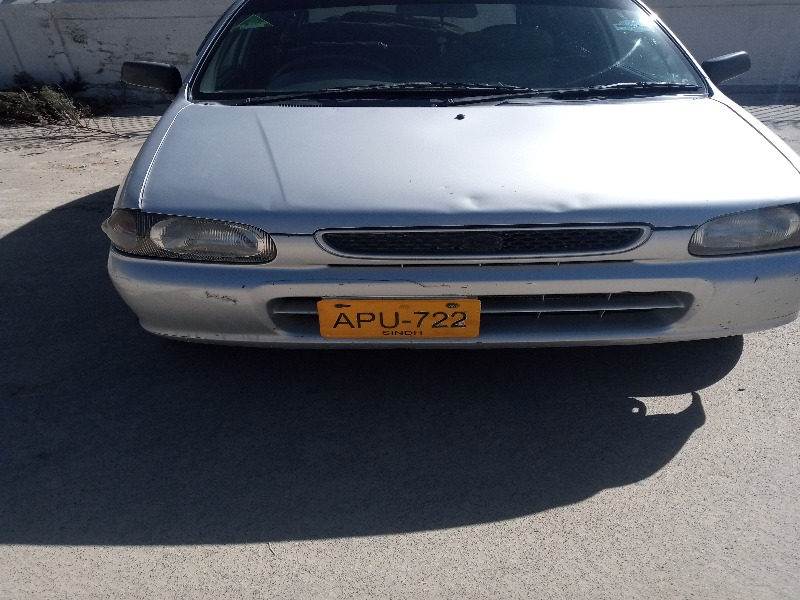License Plate: (313, 294, 482, 344)
